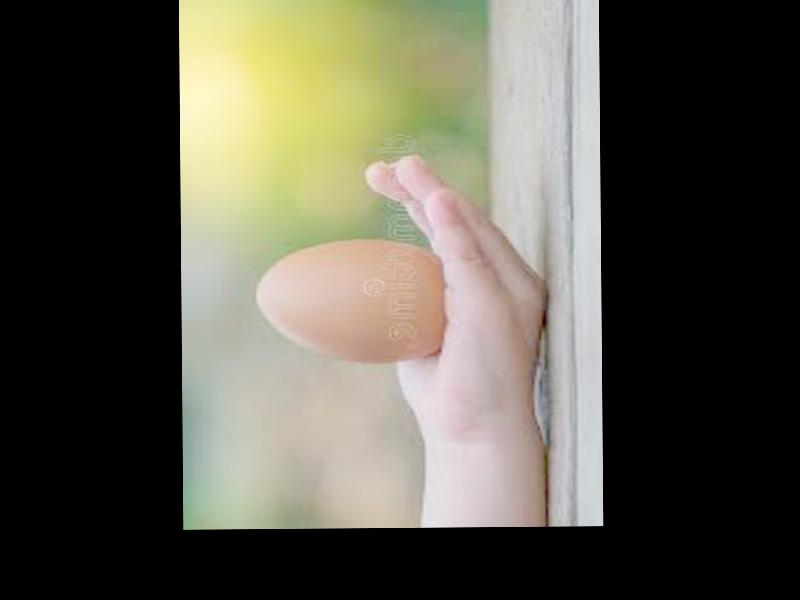Eggs: (256, 240, 447, 367)
